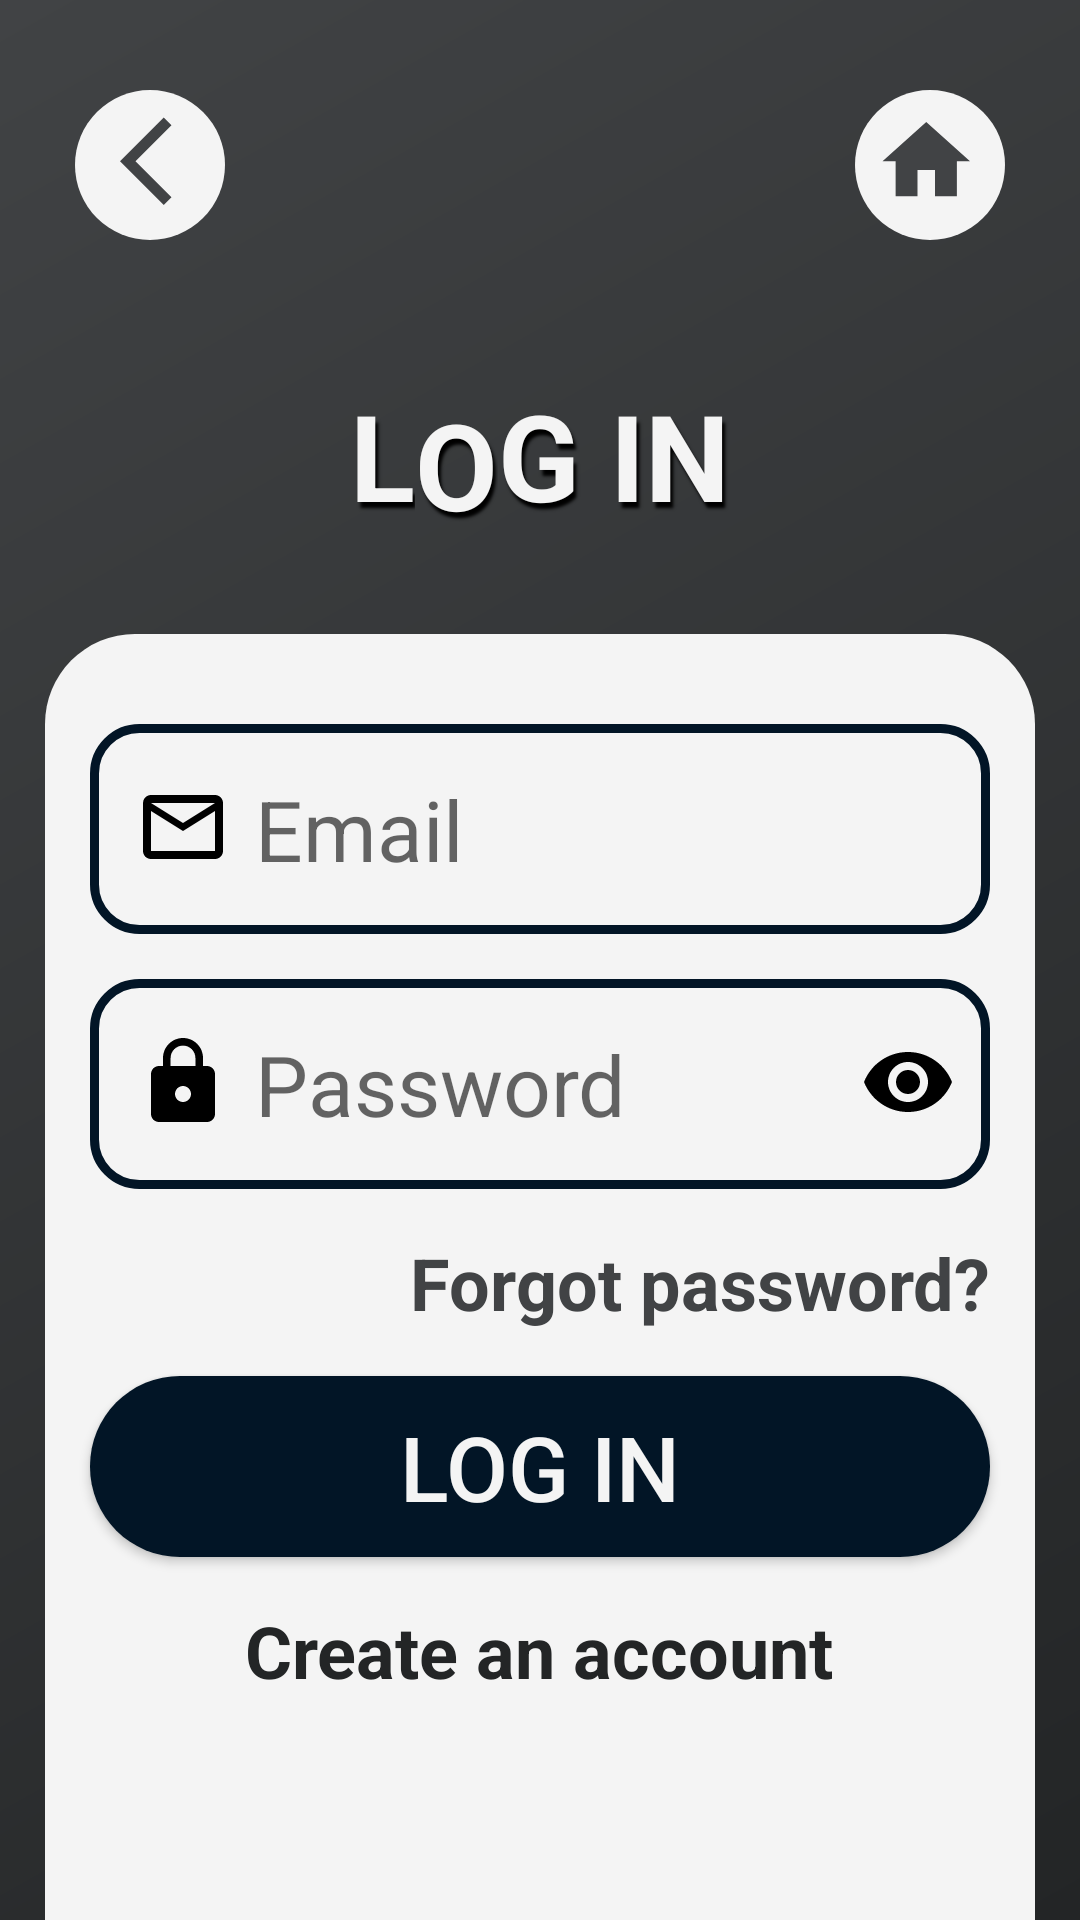

Where icons sit on this 1080 × 1920 app screen, as {"left": x1, "top": y1, "right": x2, "bottom": y2}:
back: {"left": 75, "top": 90, "right": 225, "bottom": 240}
eye: {"left": 864, "top": 1052, "right": 952, "bottom": 1112}
home: {"left": 855, "top": 90, "right": 1005, "bottom": 240}
